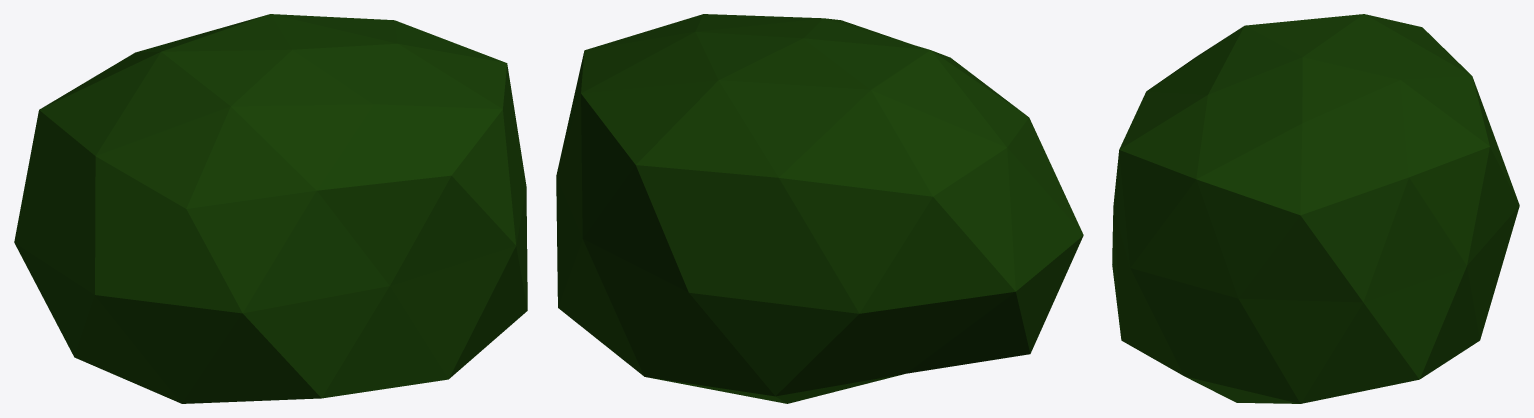
The model's file is Thicket of weeds.obj.
3 views of the same model, side by side, from view 1: azimuth 30°, elevation 25°; view 2: azimuth 150°, elevation 25°; view 3: azimuth 270°, elevation 25° (orthographic). The views are drawn at different scales.
Parts seen in each view (by area): view 1: 棱角球; view 2: 棱角球; view 3: 棱角球.
Boxes of the visible parts, left/top/right/bottom form: 棱角球: left=14, top=14, right=527, bottom=403; 棱角球: left=556, top=14, right=1083, bottom=403; 棱角球: left=1112, top=14, right=1519, bottom=403.
Size of the model in its own units: 1.32 by 0.8911 by 1.09.
